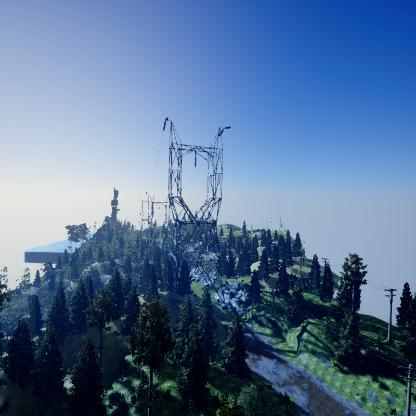tower: (159, 115, 235, 308)
